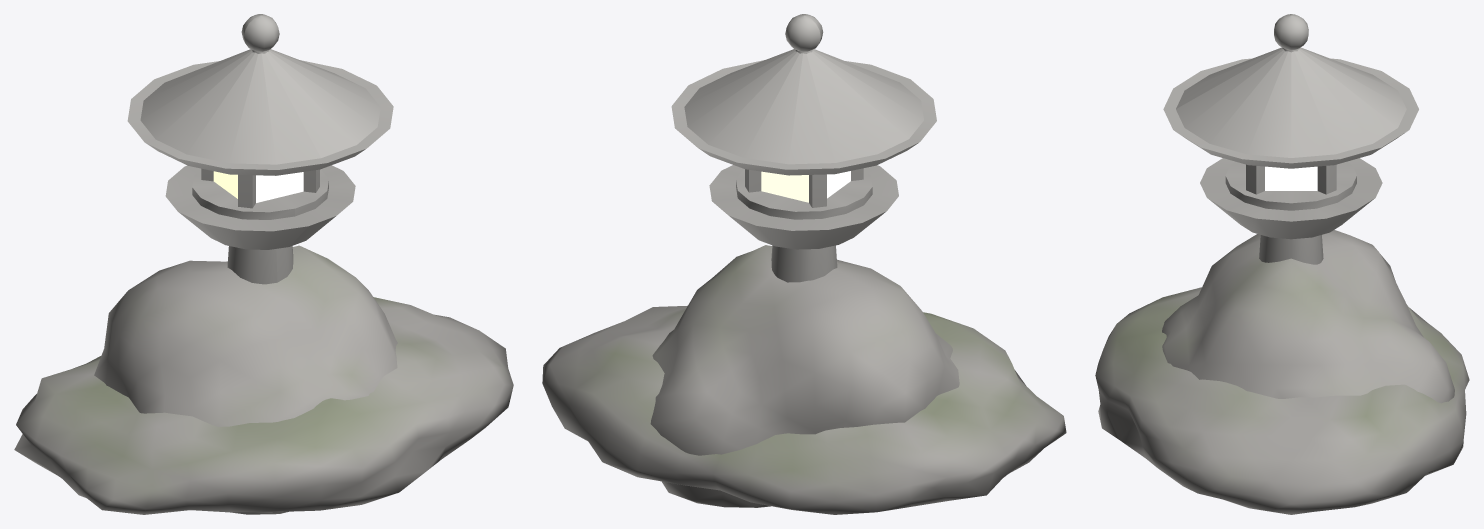
File: courtyard-props.glb
3 views of the same model, side by side, from view 1: azimuth 30°, elevation 25°; view 2: azimuth 150°, elevation 25°; view 3: azimuth 270°, elevation 25° (orthographic). The views are drawn at different scales.
Visible parts, largest first — view 1: rock_b_lod0, rock_a_lod0, lantern_lod0, lantern_glow_lod0; view 2: rock_b_lod0, rock_a_lod0, lantern_lod0, lantern_glow_lod0; view 3: rock_b_lod0, lantern_lod0, rock_a_lod0, lantern_glow_lod0.
Boxes of the visible parts, x1,y1,x2,y2 form: rock_b_lod0: (14,297,513,514); rock_a_lod0: (94,245,397,514); lantern_lod0: (127,14,393,284); lantern_glow_lod0: (213,171,303,202); rock_b_lod0: (542,305,1066,514); rock_a_lod0: (650,245,959,507); lantern_lod0: (671,14,936,282); lantern_glow_lod0: (761,171,850,202); rock_b_lod0: (1095,287,1469,514); lantern_lod0: (1163,14,1418,264); rock_a_lod0: (1162,230,1454,403); lantern_glow_lod0: (1265,166,1317,190).
Size of what is drawn, in the model's own units: 2.77 by 2.56 by 2.05.
